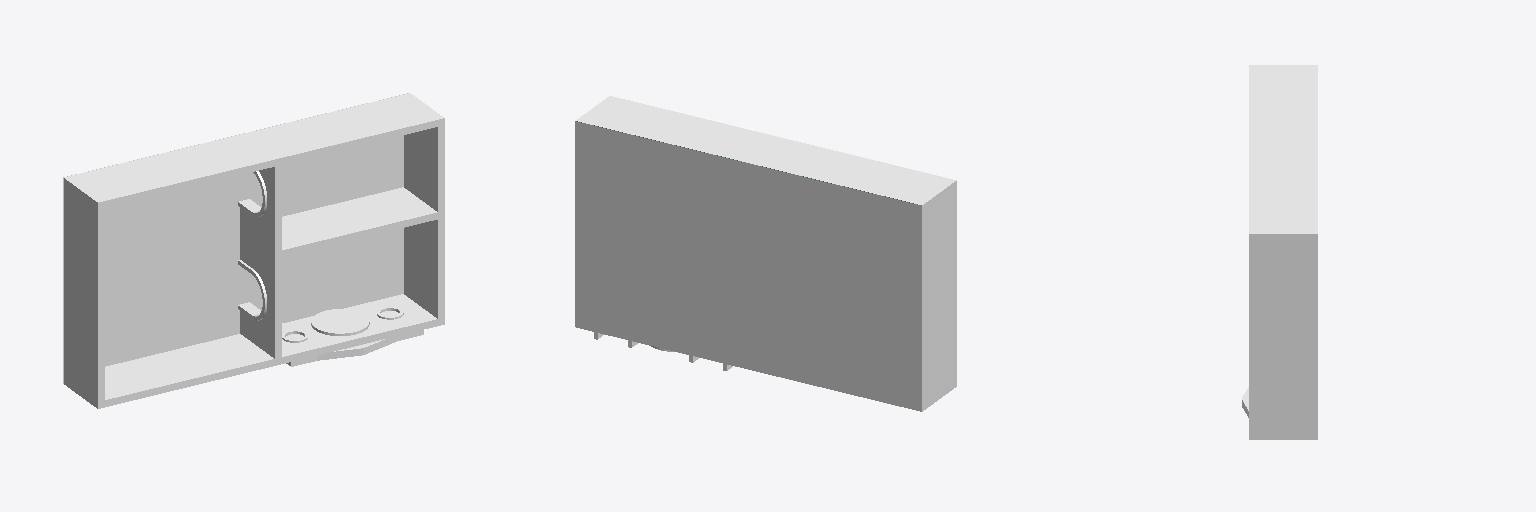
The model's file is HobbitHome.obj.
The picture shows the model from 3 angles: view 1: azimuth 30°, elevation 25°; view 2: azimuth 150°, elevation 25°; view 3: azimuth 270°, elevation 25°; orthographic projection.
Visible parts, largest first — view 1: Object.10, Object.21, Object.22, Object.18, Object.20, Object.1, Object.25, Object.11, Object.2, Object.19, Object.16, Object.9 (+1 smaller); view 2: Object.10, Object.21, Object.22, Object.18; view 3: Object.2, Object.18, Object.19, Object.22, Object.1.
Boxes of the visible parts, <box> form: Object.10: <box>63,93,407,383</box>; Object.21: <box>64,176,104,408</box>; Object.22: <box>71,135,274,207</box>; Object.18: <box>248,93,444,164</box>; Object.20: <box>105,334,274,406</box>; Object.1: <box>282,187,444,256</box>; Object.25: <box>240,133,281,358</box>; Object.11: <box>275,294,444,365</box>; Object.2: <box>404,218,444,318</box>; Object.19: <box>404,125,444,211</box>; Object.16: <box>316,311,364,331</box>; Object.9: <box>317,336,398,360</box>; Object.10: <box>575,121,921,411</box>; Object.21: <box>916,179,956,411</box>; Object.22: <box>746,137,948,203</box>; Object.18: <box>576,96,772,160</box>; Object.2: <box>1249,334,1317,432</box>; Object.18: <box>1249,154,1317,240</box>; Object.19: <box>1249,241,1317,325</box>; Object.22: <box>1249,68,1317,150</box>; Object.1: <box>1249,326,1317,333</box>.
Size of the model in its own units: 1020 by 600 by 196.